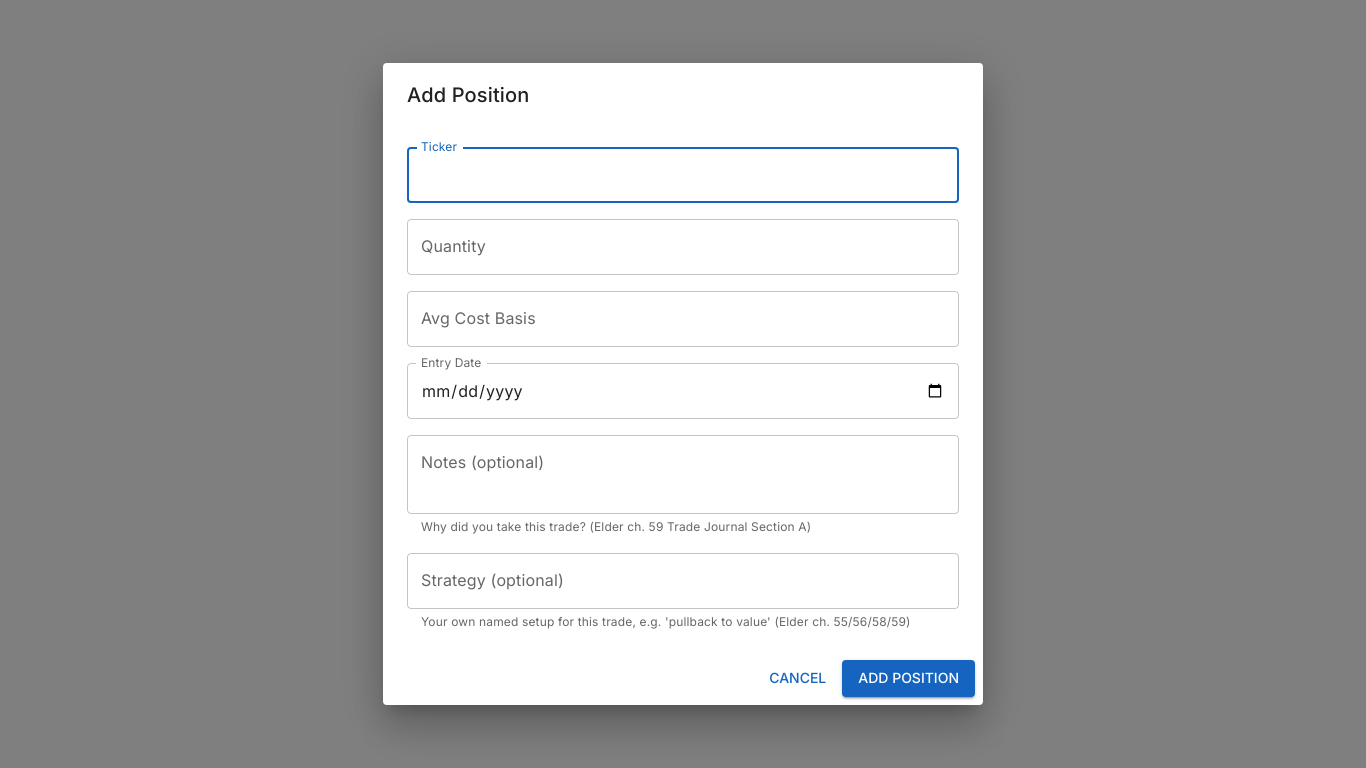
Test: AddPositionDialog › shows validation errors and does not submit when fields are missing/invalid
The width and height of the screenshot is (1366, 768).
Type "0" into the number field labelled "Quantity".
click(683, 247); type("0")  # box [407,219,959,275]
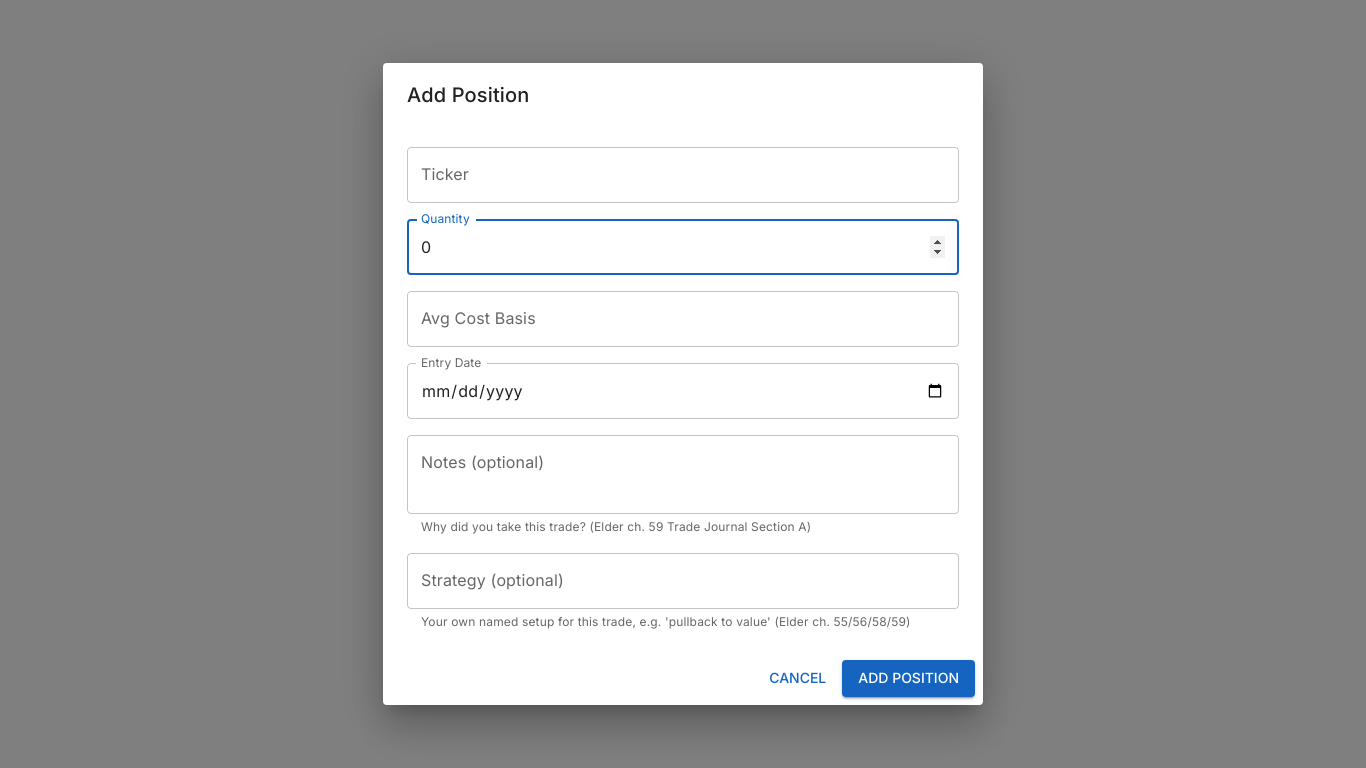
Type "-5" into the number field labelled "Avg Cost Basis".
click(683, 319); type("-5")  # box [407,291,959,347]
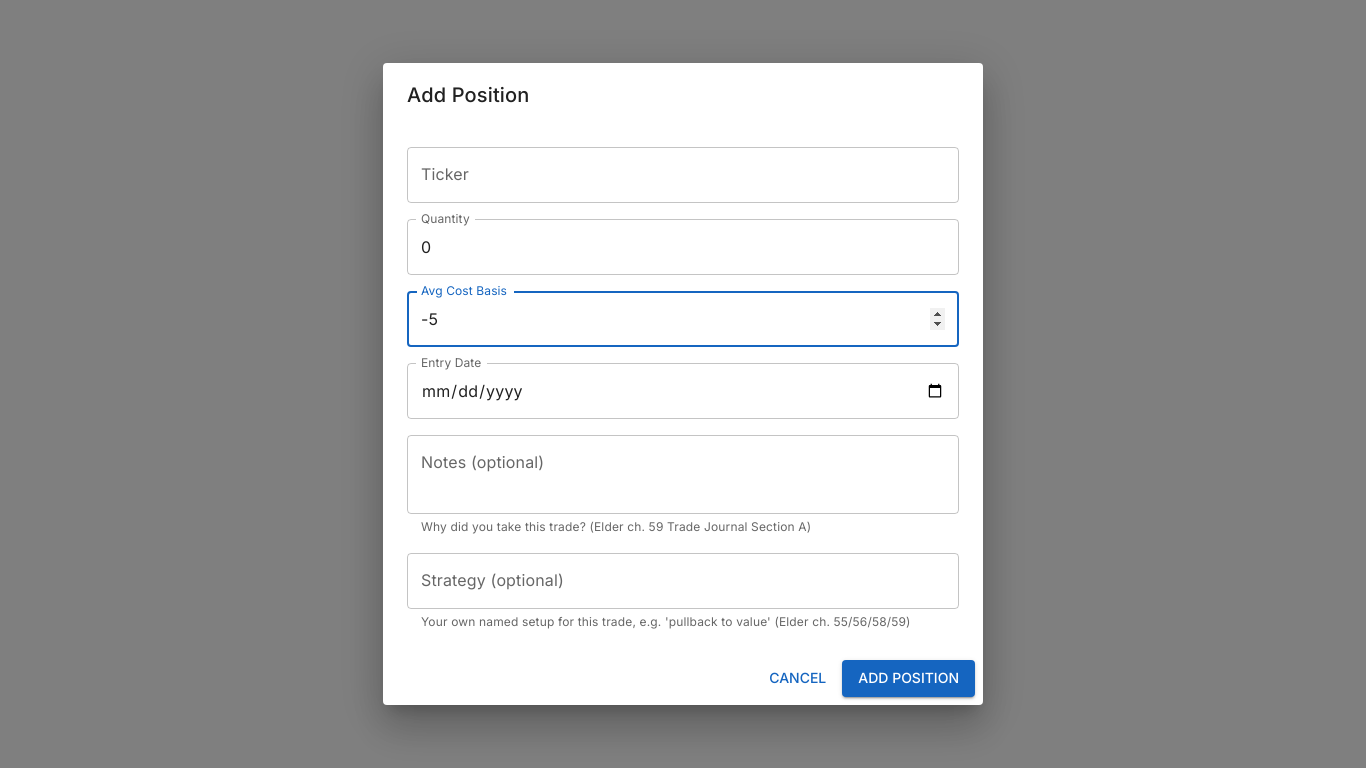
Click the button "Add Position".
click(909, 678)  # box [842,660,975,697]
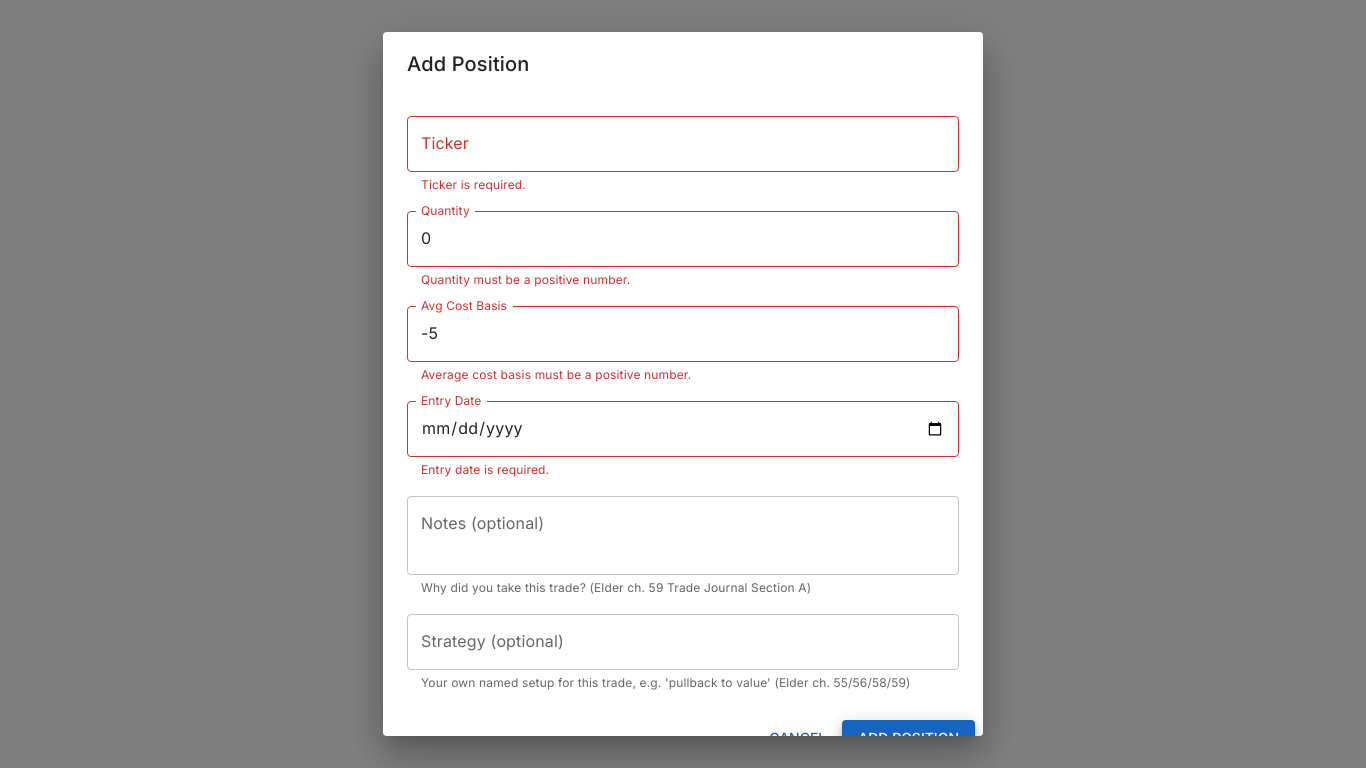
Check: the text "Ticker is required." is shown, box [421,177,526,192]
Check: the text "Quantity must be a positive number." is shown, box [421,272,630,287]
Check: the text "Average cost basis must be a positive number." is shown, box [421,367,691,382]
